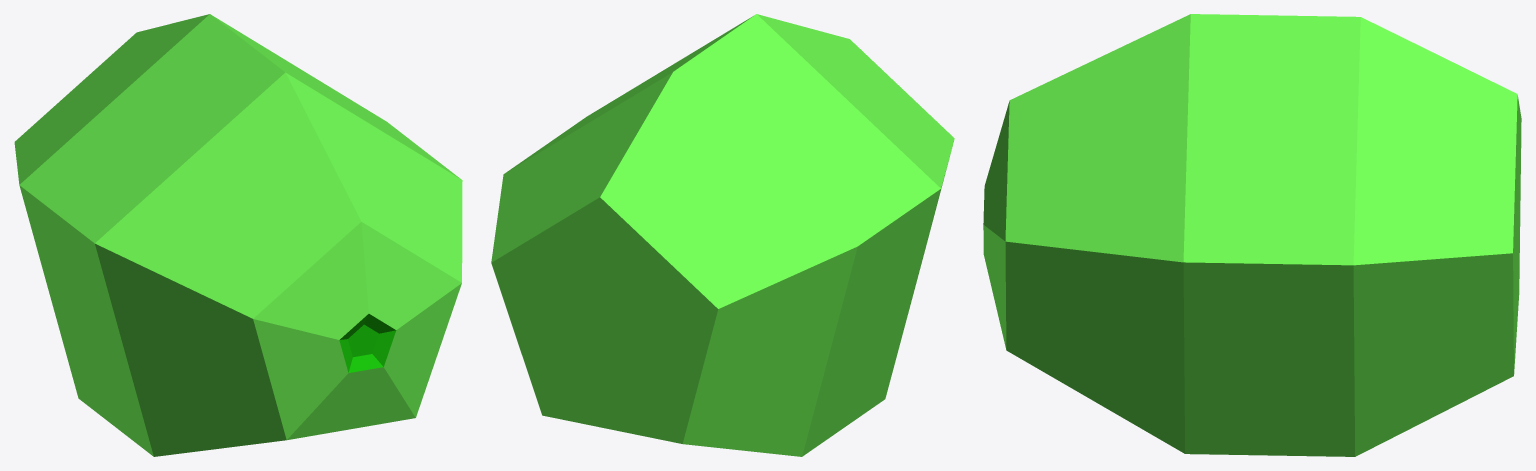
The model's file is grapes02.gltf.
The picture shows the model from 3 angles, left to right: view 1: azimuth 30°, elevation 25°; view 2: azimuth 150°, elevation 25°; view 3: azimuth 270°, elevation 25°; orthographic projection. The views are drawn at different scales.
Parts seen in each view (by area): view 1: Cylinder.001; view 2: Cylinder.001; view 3: Cylinder.001.
Boxes of the visible parts, x1,y1,x2,y2 form: Cylinder.001: (14, 14, 462, 456); Cylinder.001: (491, 14, 954, 456); Cylinder.001: (983, 14, 1521, 456).
Bounding box in the file's own units: 0.0196 × 0.0188 × 0.0234.
Materials: 1 (1 with a texture image).
